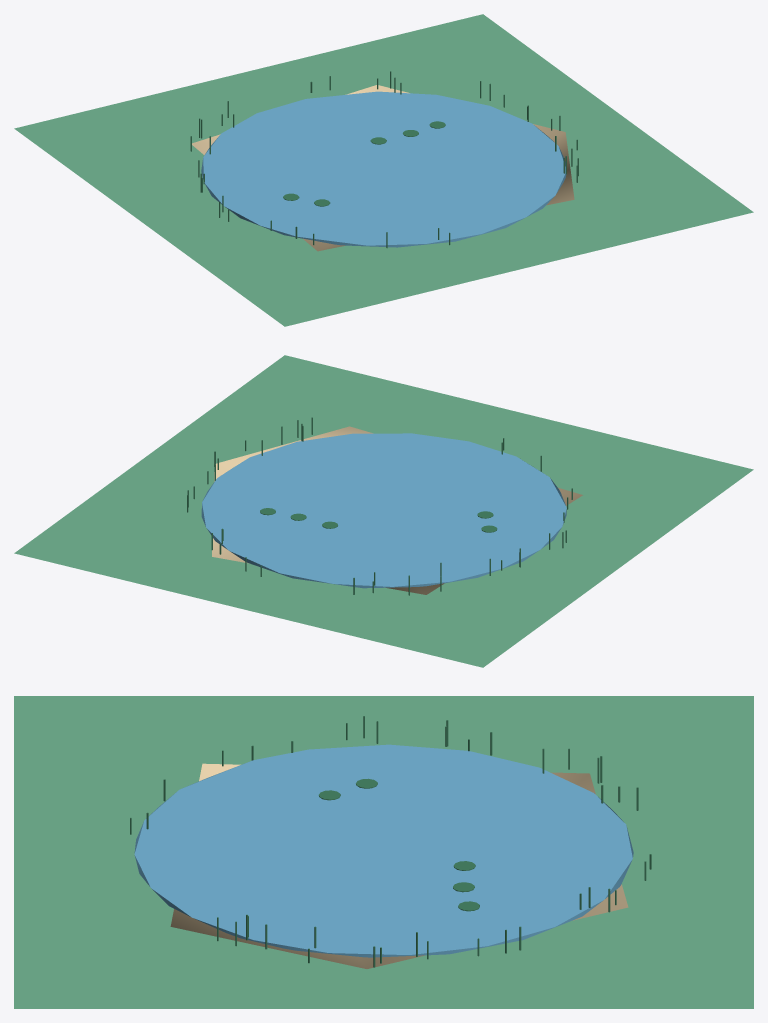
File: land_lake.glb
3 views of the same model, one above another, from view 1: azimuth 30°, elevation 25°; view 2: azimuth 150°, elevation 25°; view 3: azimuth 270°, elevation 25° (orthographic). The views are drawn at different scales.
Visible parts, largest first — view 1: land_lake; view 2: land_lake; view 3: land_lake.
Part boxes in pixels (bbox=[...]): land_lake: bbox=[14, 14, 753, 326]; land_lake: bbox=[14, 355, 753, 667]; land_lake: bbox=[14, 696, 753, 1008].
Size of the model in its own units: 40 by 1.59 by 40.
1 material, 1 textured.
